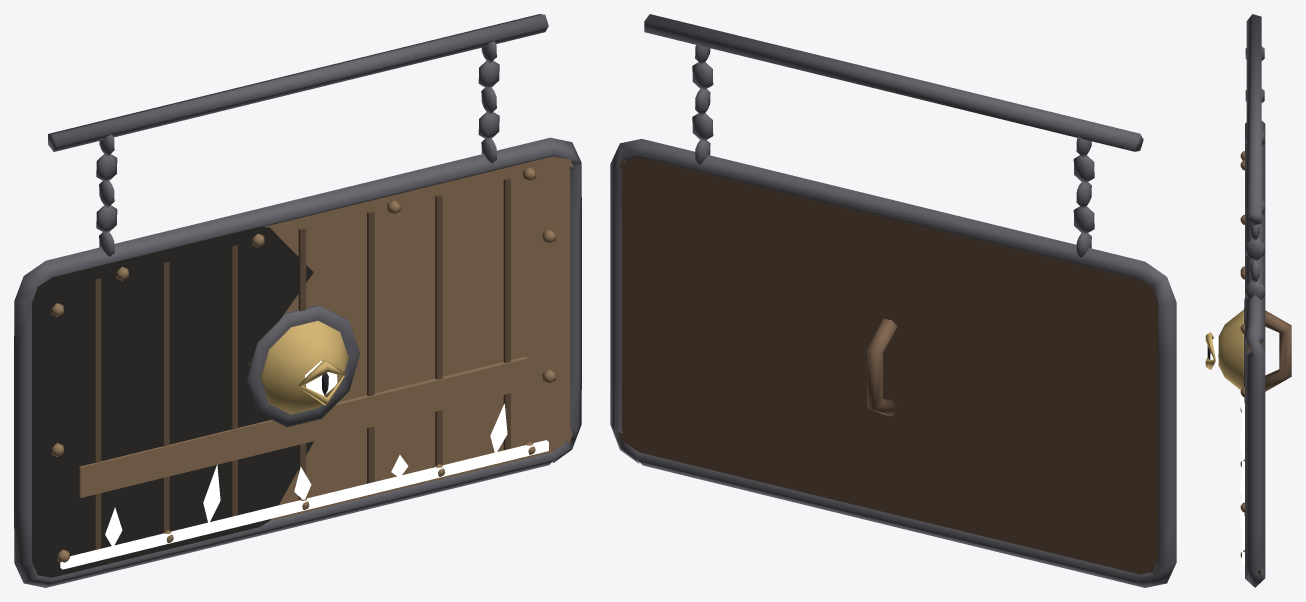
The model's file is shield-hearth-board.glb.
3 views of the same model, side by side, from view 1: azimuth 30°, elevation 25°; view 2: azimuth 150°, elevation 25°; view 3: azimuth 270°, elevation 25° (orthographic). The views are drawn at different scales.
Visible parts, largest first — view 1: shield-hearth-board; view 2: shield-hearth-board; view 3: shield-hearth-board.
Boxes of the visible parts, x1=… form: shield-hearth-board: x1=14, y1=14, x2=581, y2=587; shield-hearth-board: x1=610, y1=14, x2=1176, y2=587; shield-hearth-board: x1=1205, y1=14, x2=1291, y2=587.
Bounding box in the file's own units: 1.56 × 1.19 × 0.2485.
